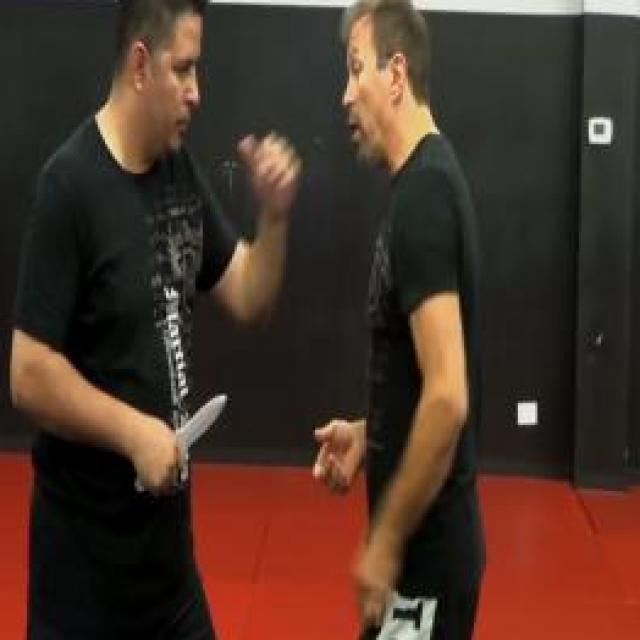knife: (132, 386, 228, 499)
